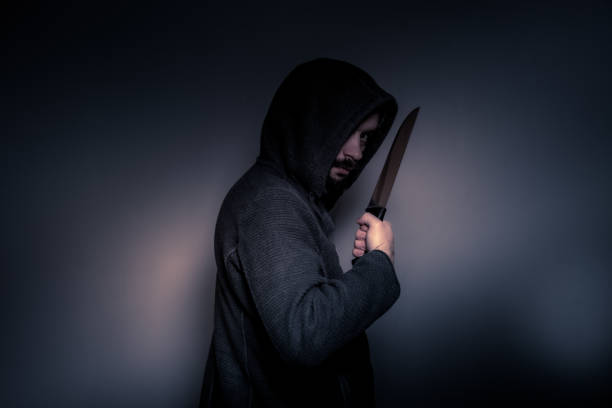knife: (351, 105, 422, 266)
